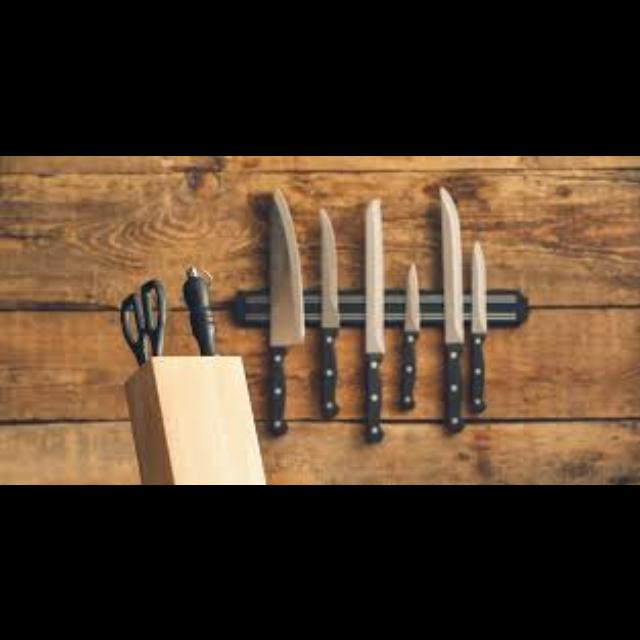Knife: (266, 185, 304, 432), (438, 184, 464, 430), (364, 196, 384, 442), (317, 206, 339, 416), (399, 262, 419, 406), (470, 240, 486, 410)
